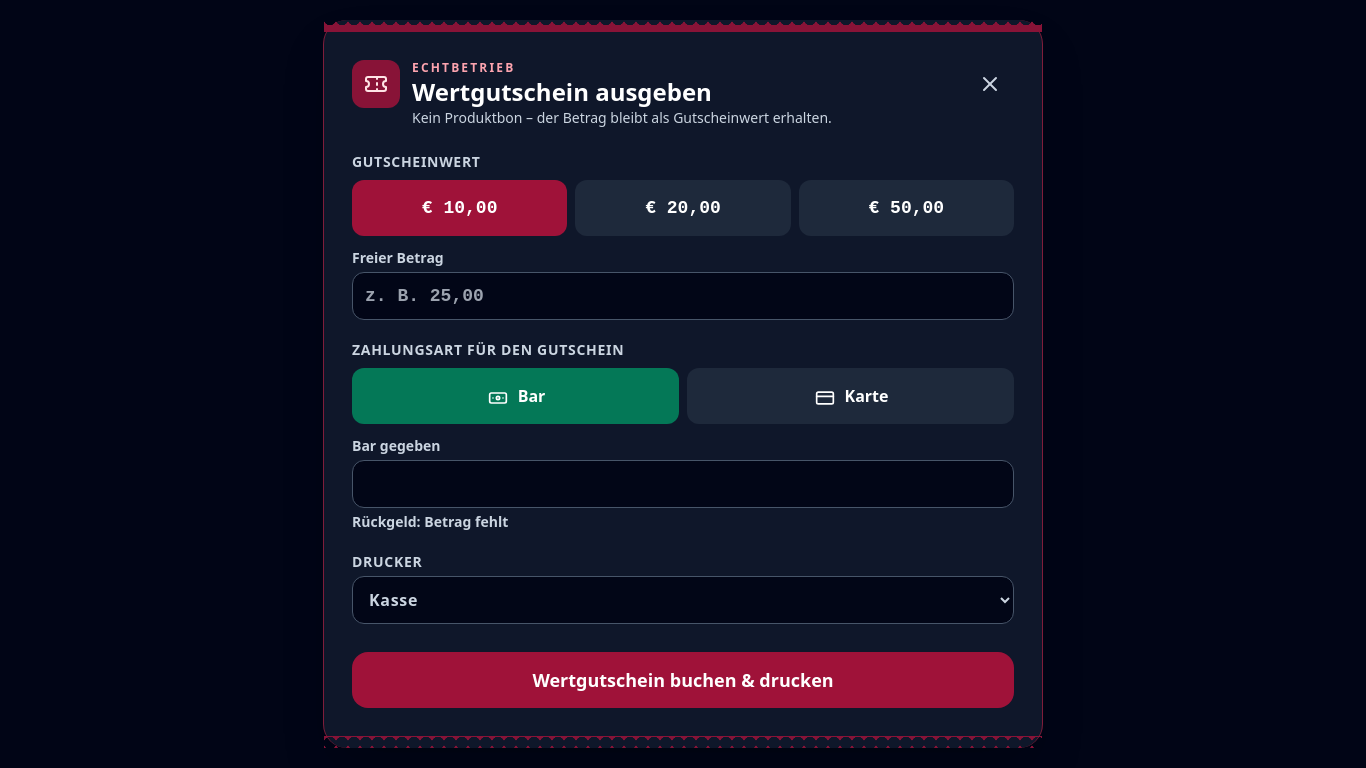
Scenario: Wertgutschein-Flows › sperrt Ausgabe offline und zeigt eine sichere Fehlererklärung
Type "10" into the field labelled "Bar gegeben Rückgeld: Betrag fehlt" at (683, 484), box [352,460,1014,508]
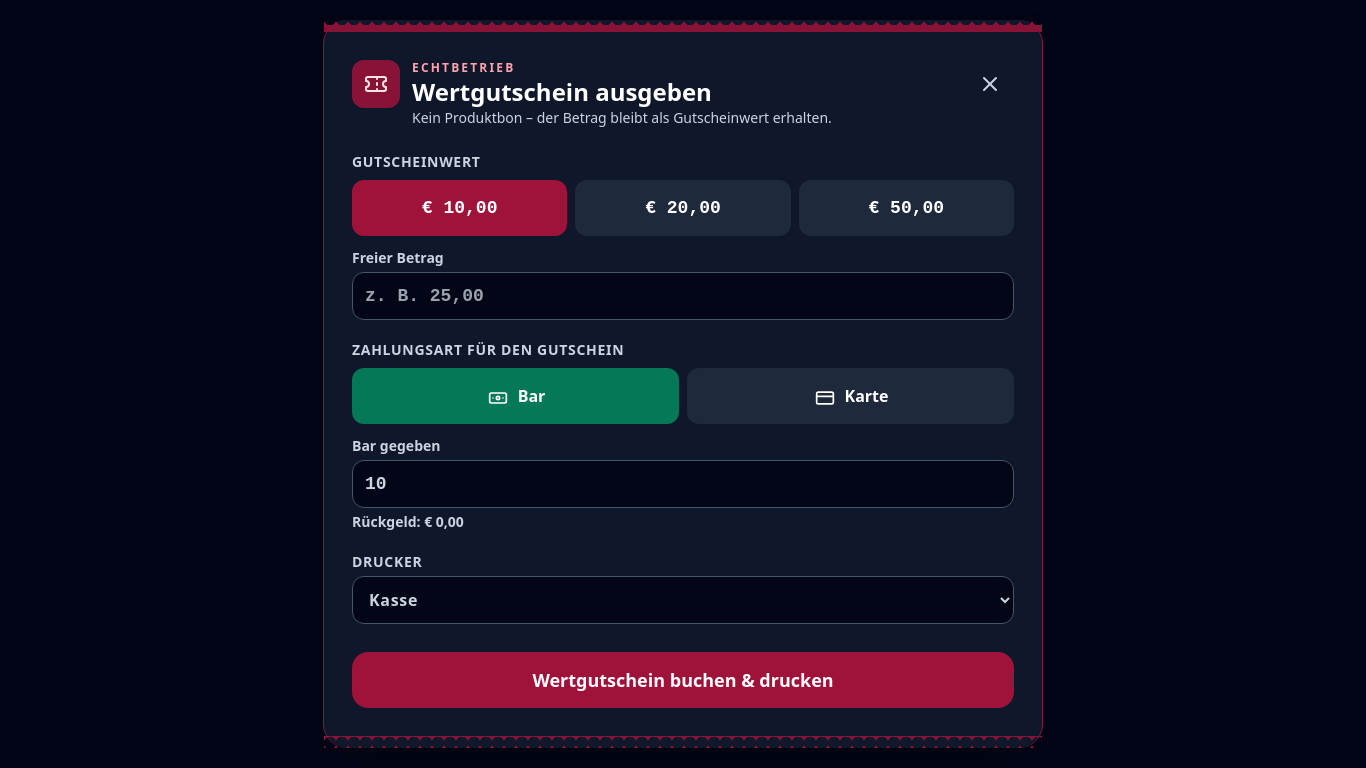
Click the button "Wertgutschein buchen & drucken" at (683, 680), box [352,652,1014,708]
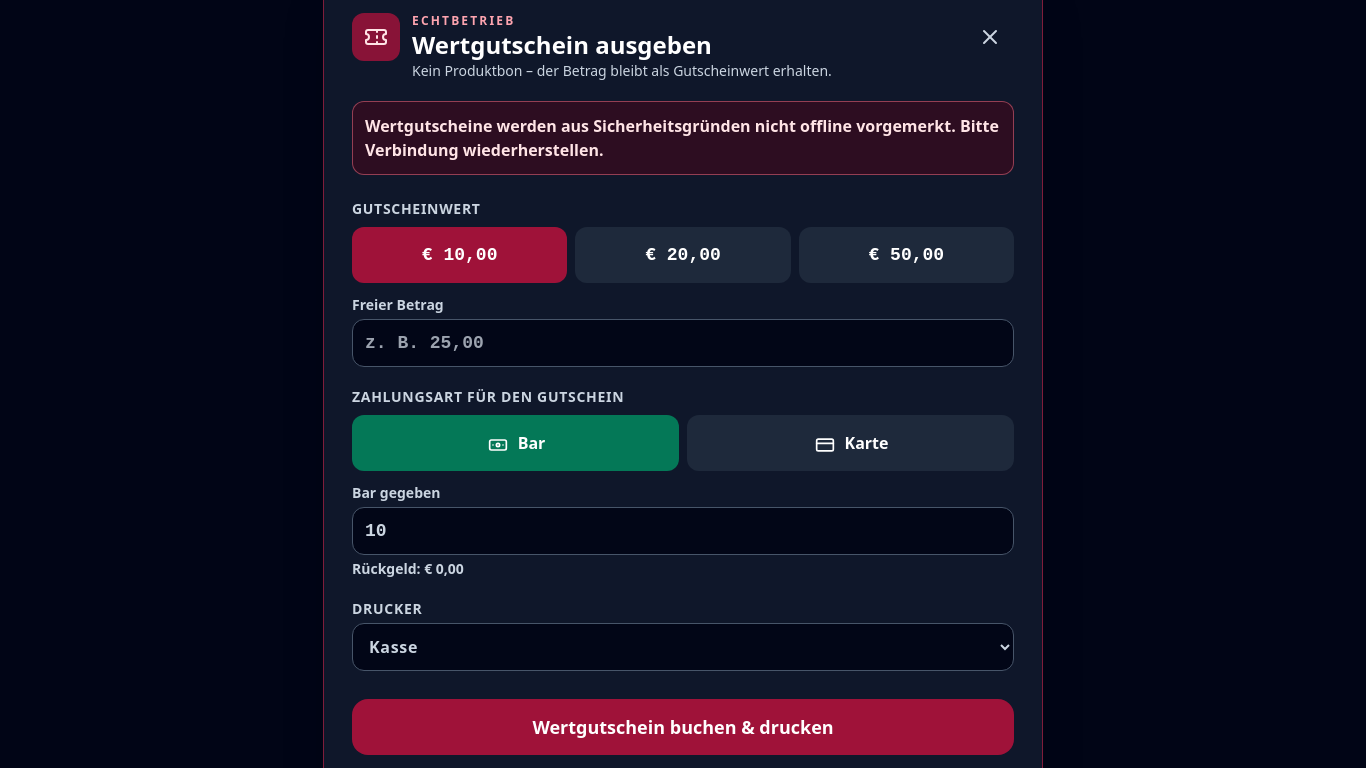
Expected: the message shows "nicht offline vorgemerkt", [365,115,999,161]
